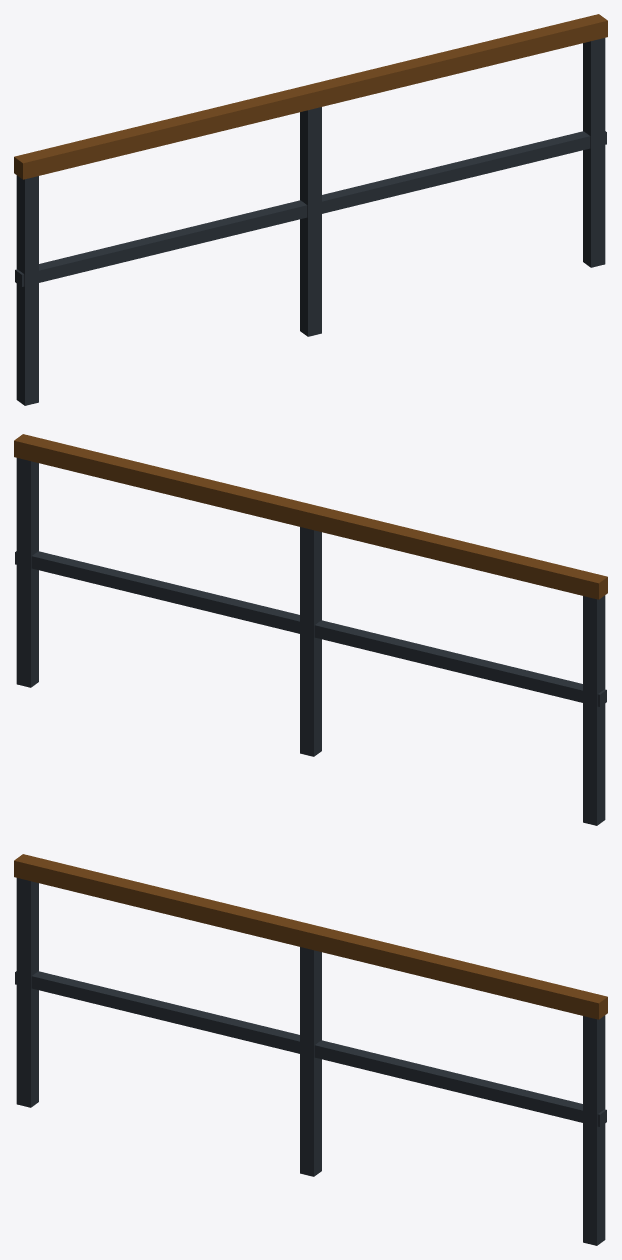
Rendered from nf_handrail.obj.
The picture shows the model from 3 angles, top to bottom: view 1: azimuth 30°, elevation 25°; view 2: azimuth 150°, elevation 25°; view 3: azimuth 330°, elevation 25°; orthographic projection.
Parts seen in each view (by area): view 1: top_rail, mid_rail, post_-1.8, post_1.8, post_0; view 2: top_rail, mid_rail, post_-1.8, post_1.8, post_0; view 3: top_rail, mid_rail, post_1.8, post_-1.8, post_0.
Part boxes in pixels (bbox=[...]): top_rail: bbox=[14, 14, 607, 179]; mid_rail: bbox=[15, 131, 606, 286]; post_-1.8: bbox=[16, 175, 38, 405]; post_1.8: bbox=[583, 38, 605, 267]; post_0: bbox=[300, 107, 321, 336]; top_rail: bbox=[14, 434, 607, 599]; mid_rail: bbox=[15, 551, 606, 706]; post_-1.8: bbox=[583, 595, 605, 825]; post_1.8: bbox=[16, 458, 38, 687]; post_0: bbox=[300, 527, 321, 756]; top_rail: bbox=[14, 854, 607, 1019]; mid_rail: bbox=[15, 971, 606, 1126]; post_1.8: bbox=[583, 1015, 605, 1245]; post_-1.8: bbox=[16, 878, 38, 1107]; post_0: bbox=[300, 947, 321, 1176].
Bounding box in the file's own units: 3.72 × 1.48 × 0.1.
